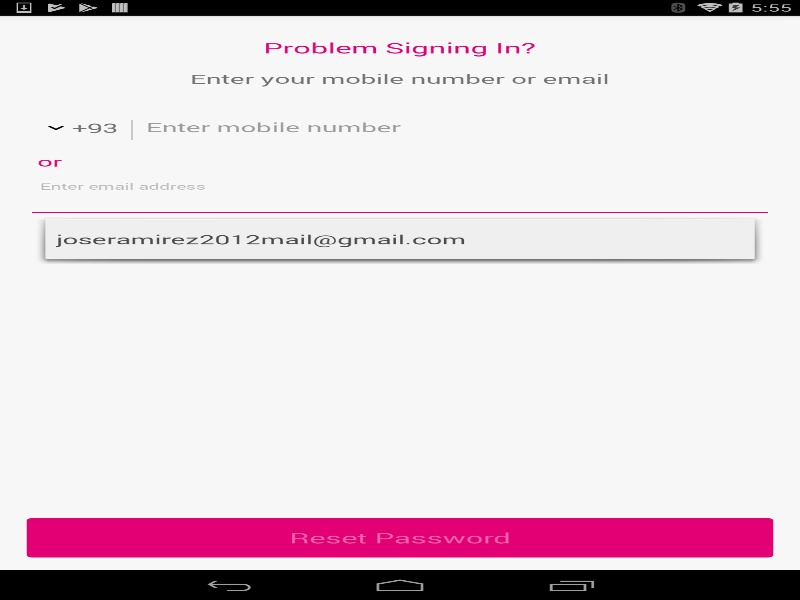Button: (26, 518, 773, 557)
Input: (34, 189, 765, 211), (140, 116, 765, 139)
